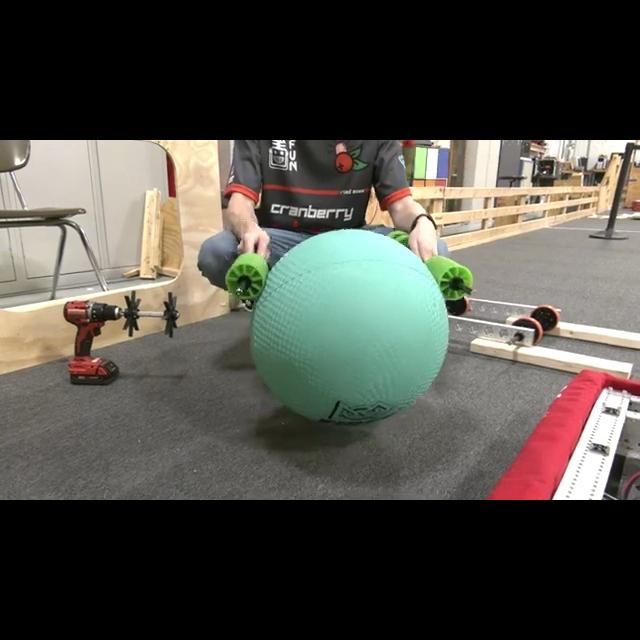ALGAE: (248, 228, 450, 424)
